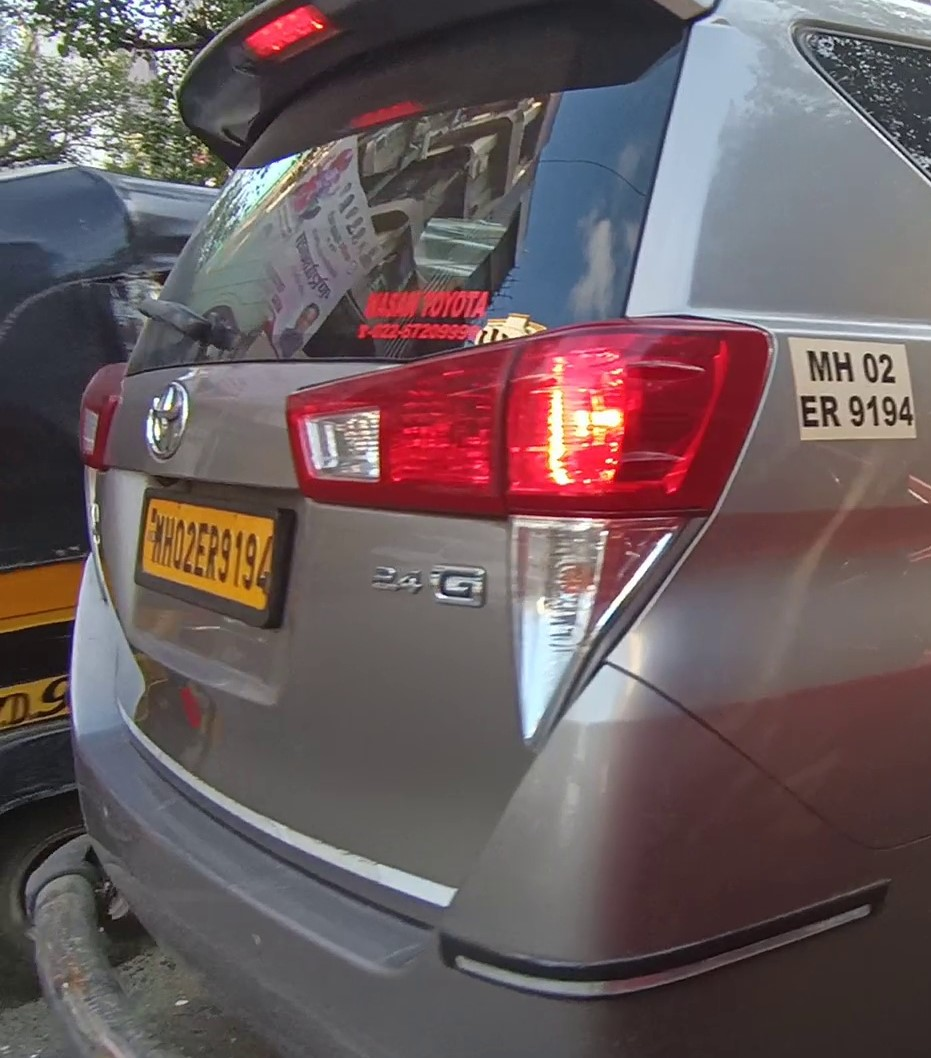MH02ER9194: (138, 496, 274, 615)
